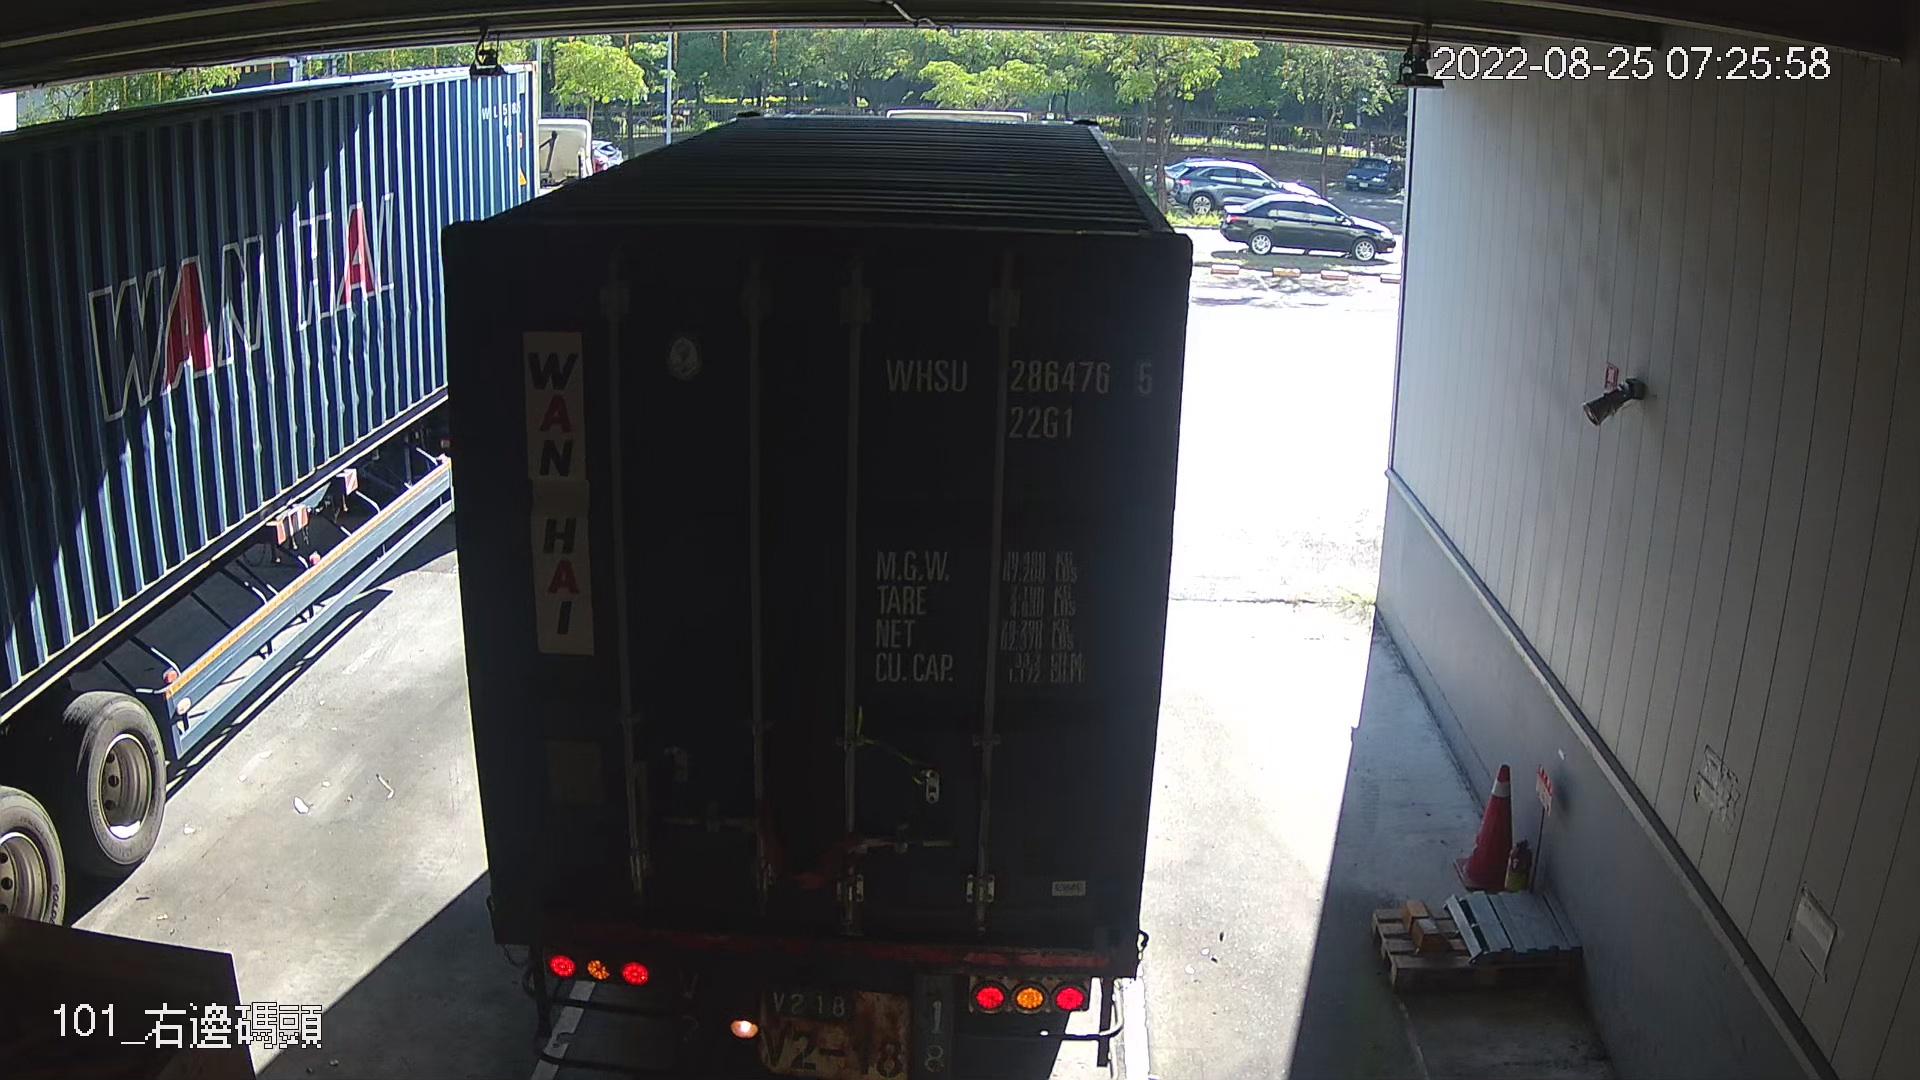container: (866, 339, 1172, 454)
